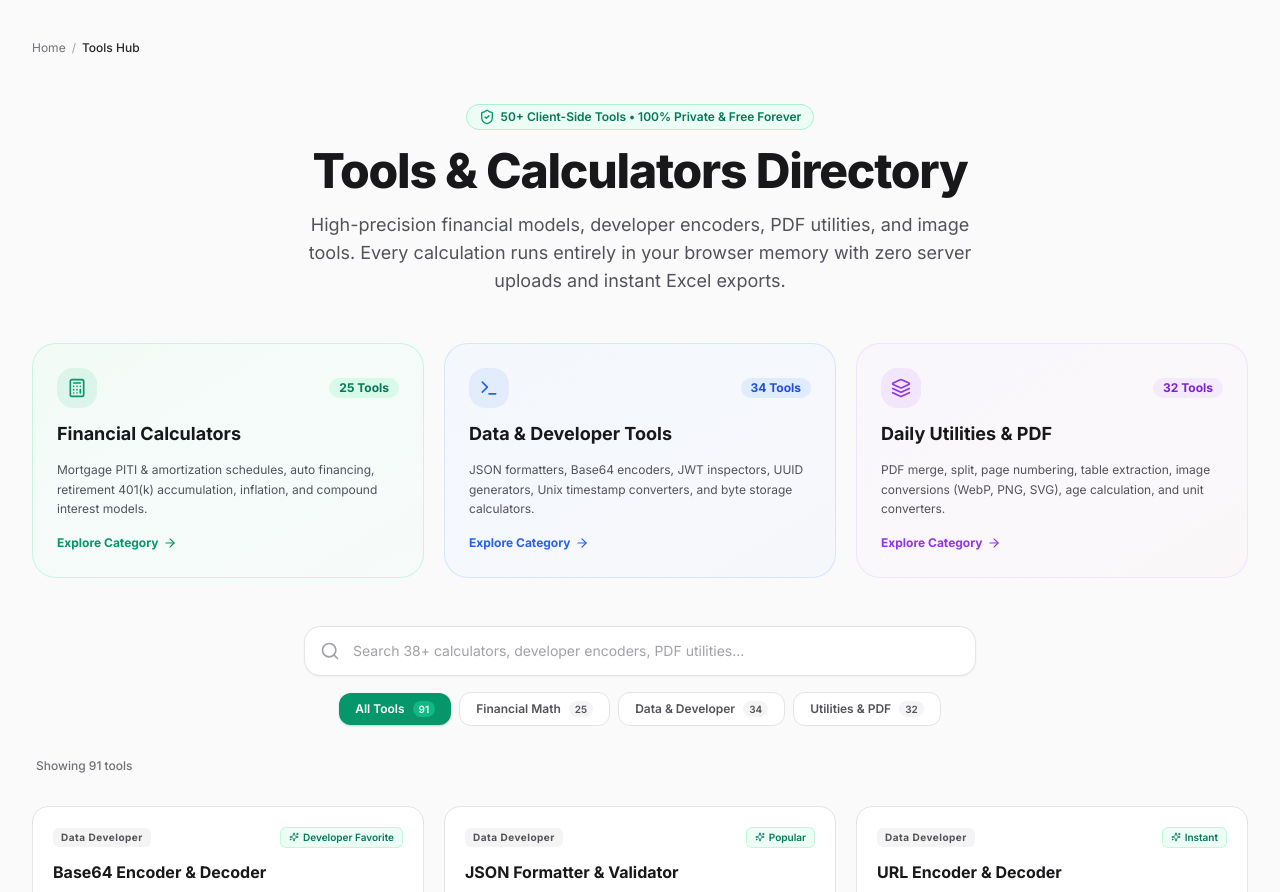
Test: Tools Hub (/tools) & Category Silos (/tools/category/[category]) › Tools Hub Directory Page (/tools) › live filter updates tool list when typing in search input
The image size is (1280, 892).
In the search field named "Search tools": x=640, y=650 [304,626,976,676], type "mortgage"
(page scrolled)
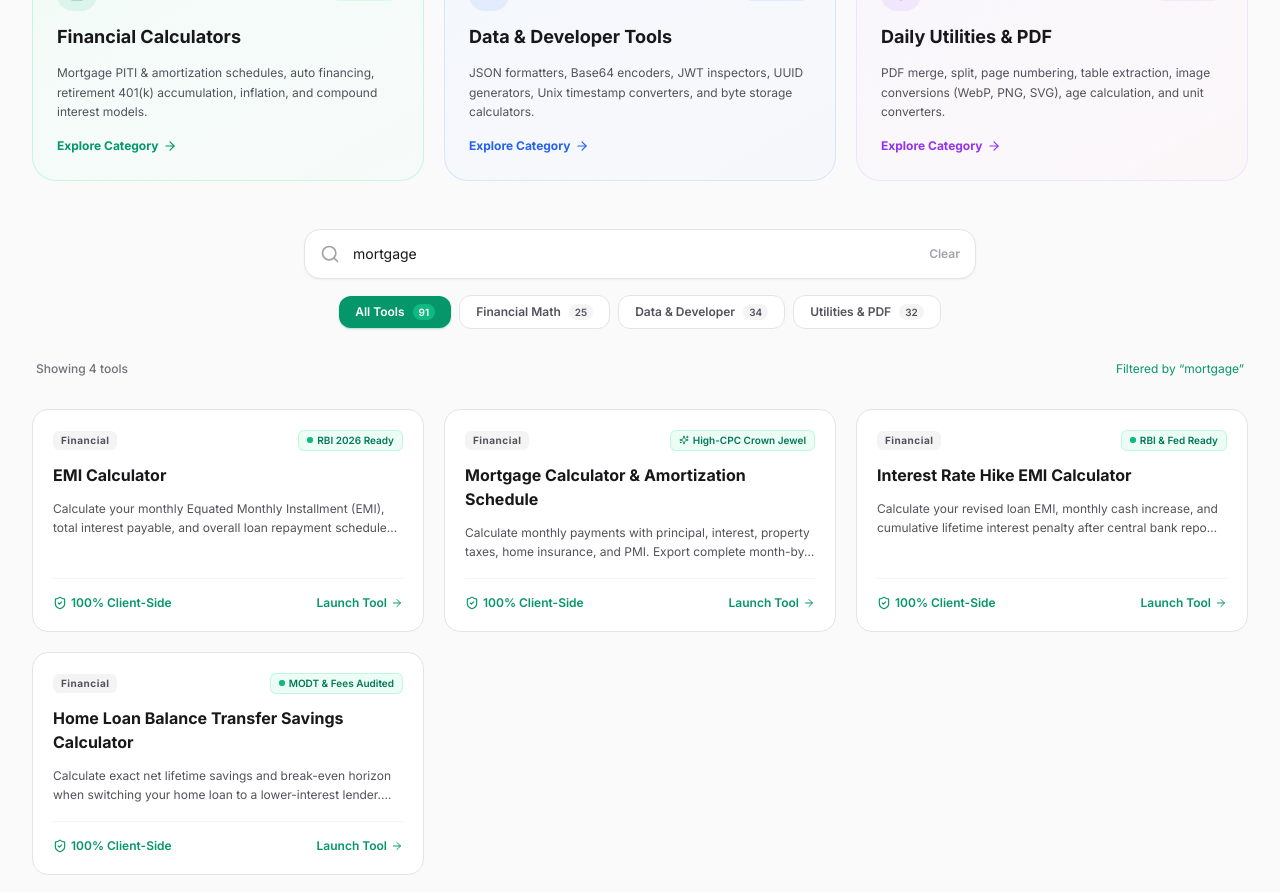
Check: the heading "Mortgage Calculator & Amortization Schedule" is shown, box [465,464,746,508]
Check: the text "Filtered by “mortgage”" is shown, box [1116,360,1244,376]
